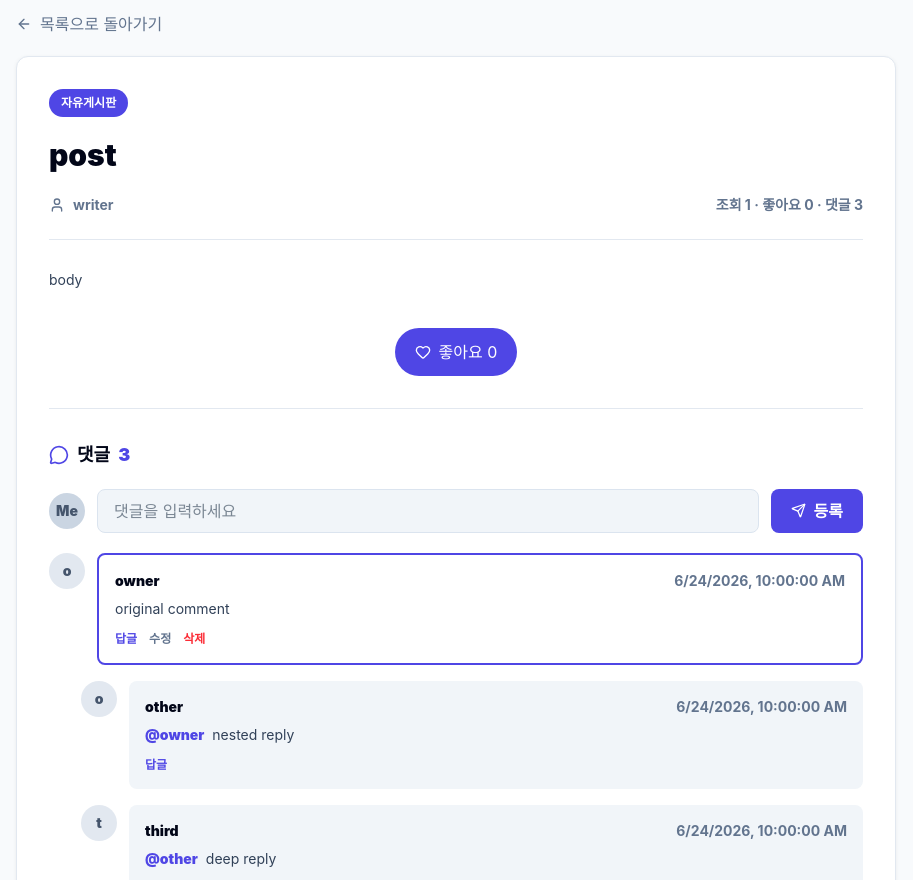
Scenario: CommunityDetailPage comments › edits my comment inline and shows edited metadata from the response
Click the button with test id "edit-comment-1". click: (160, 638)
box: [149,630,171,646]
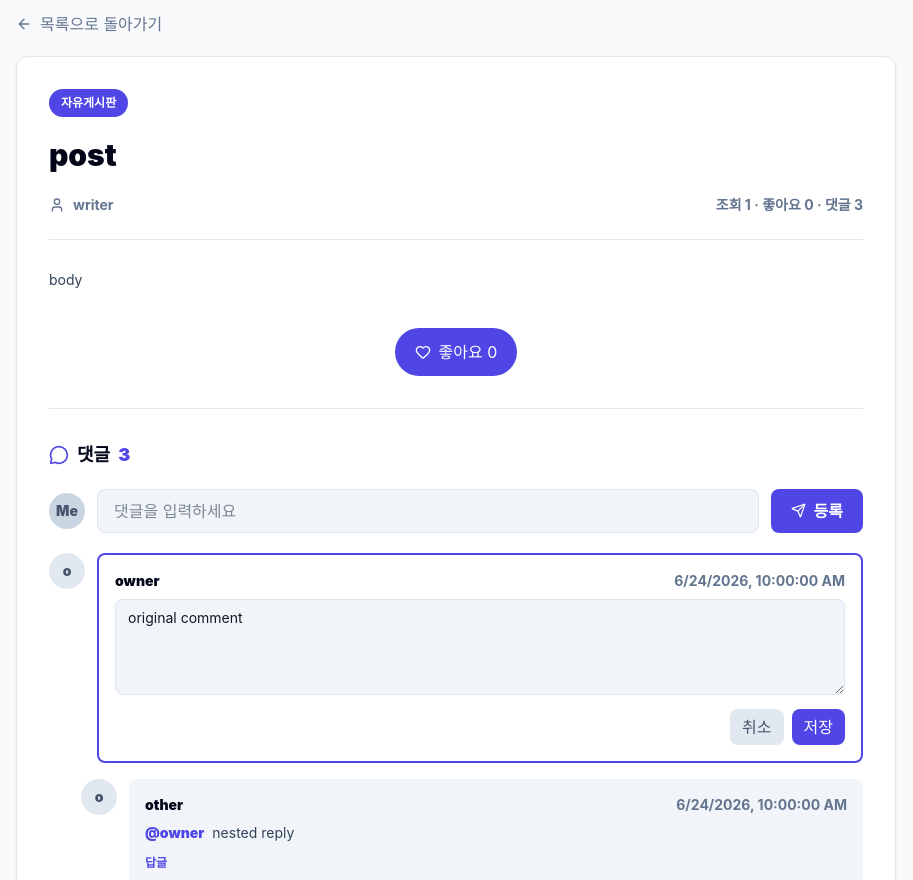
Replace the text in the text box with test id "edit-comment-input-1" with "edited comment". click: (480, 646)
box: [115,598,845,694]
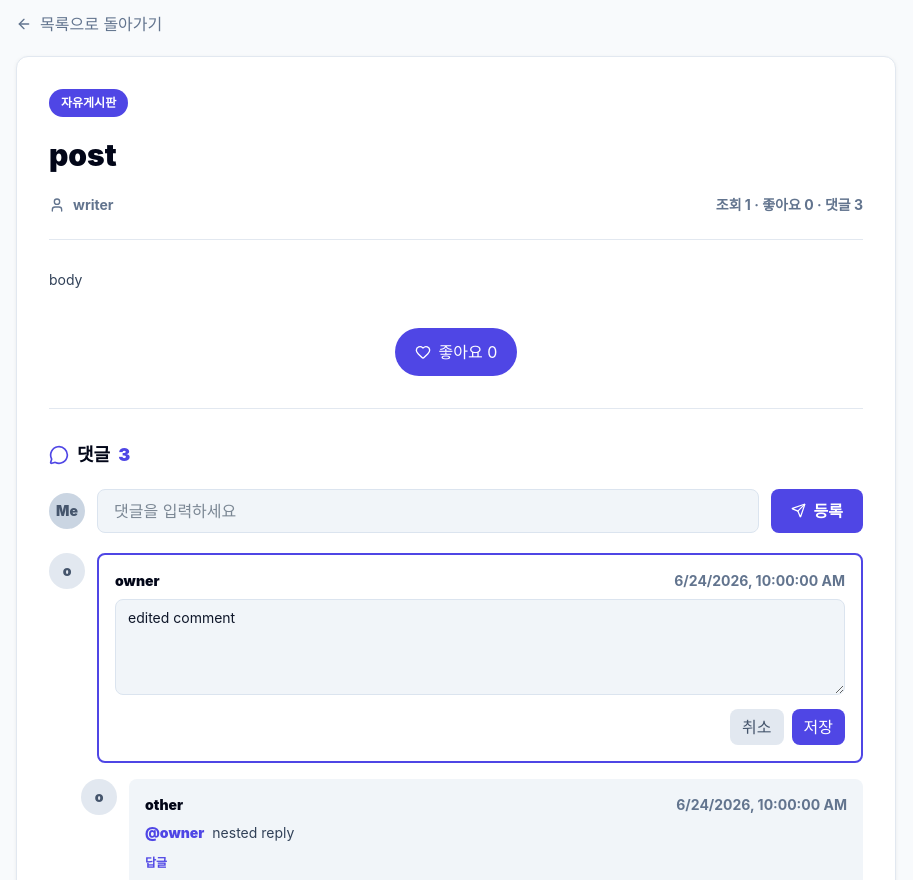
Click the button with test id "save-comment-edit-1". click: (818, 726)
box: [792,708,845,744]
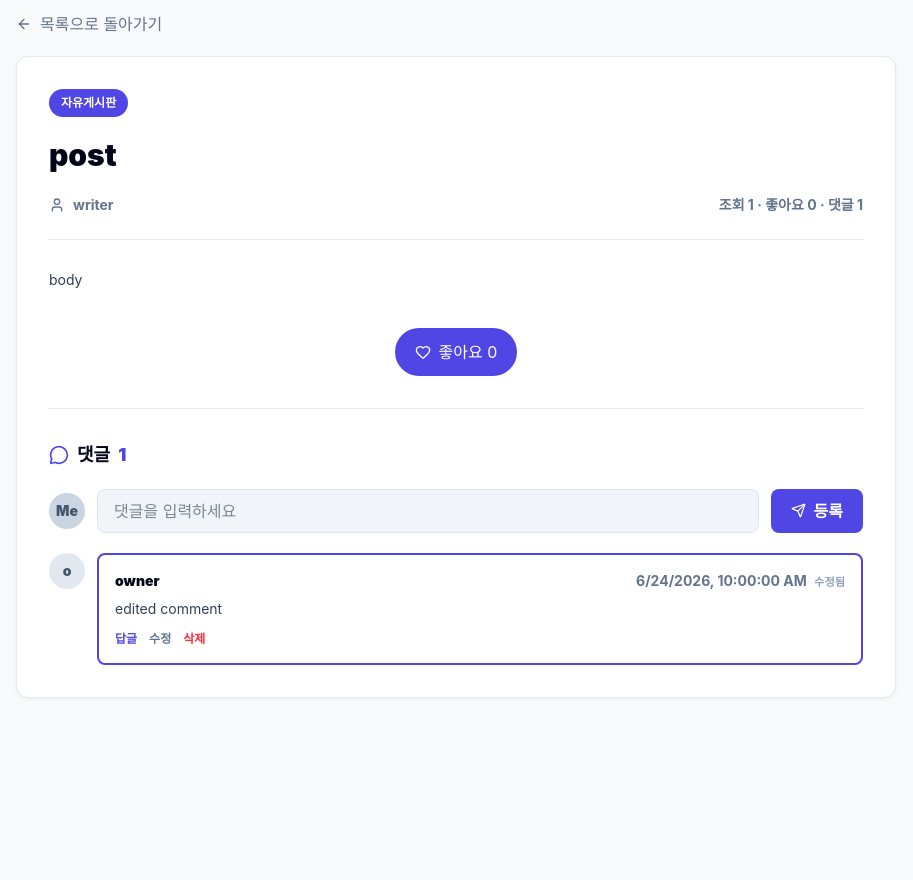
Result: the element with test id "comment-1" shows "edited comment" at [115,600,222,616]
Result: the element with test id "comment-1" shows "수정됨" at [814,574,845,588]
